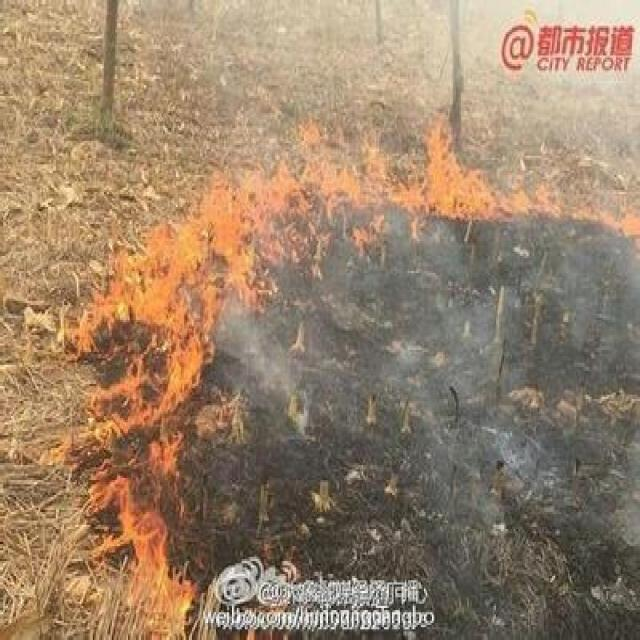fire: (77, 99, 406, 634), (419, 118, 636, 241)
other: (501, 0, 637, 75)
